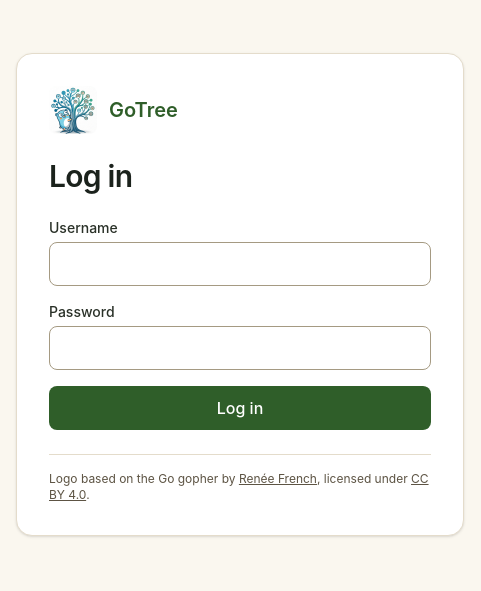
Scenario: login › explains throttling
The image size is (481, 591).
Expected: the heading "Log in" is shown, 49,158 -> 132,194
Type "admin" into the field labelled "Username".
click(240, 264); type("admin")  # box 49,242 -> 431,286
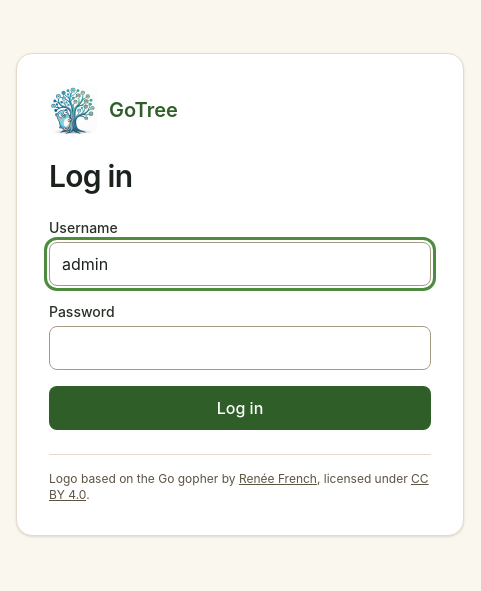
Type "whatever" into the password field labelled "Password".
click(240, 348); type("whatever")  # box 49,326 -> 431,370
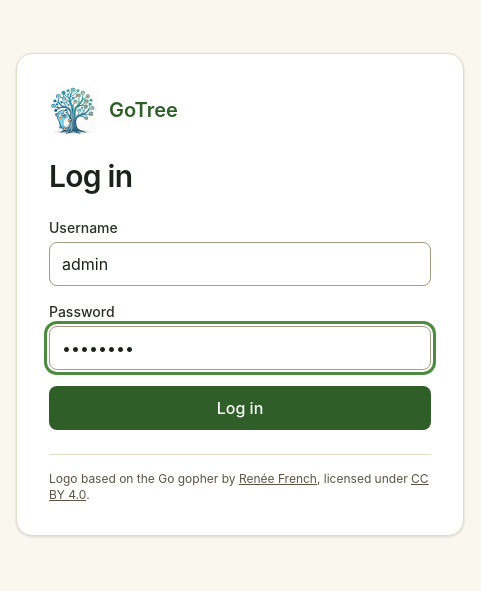
Click the button "Log in".
click(240, 408)  # box 49,386 -> 431,430
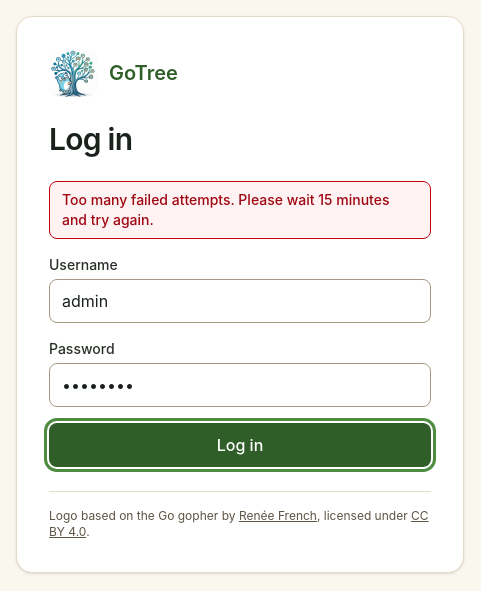
Expected: the message shows "wait 15 minutes", 62,190 -> 390,228
